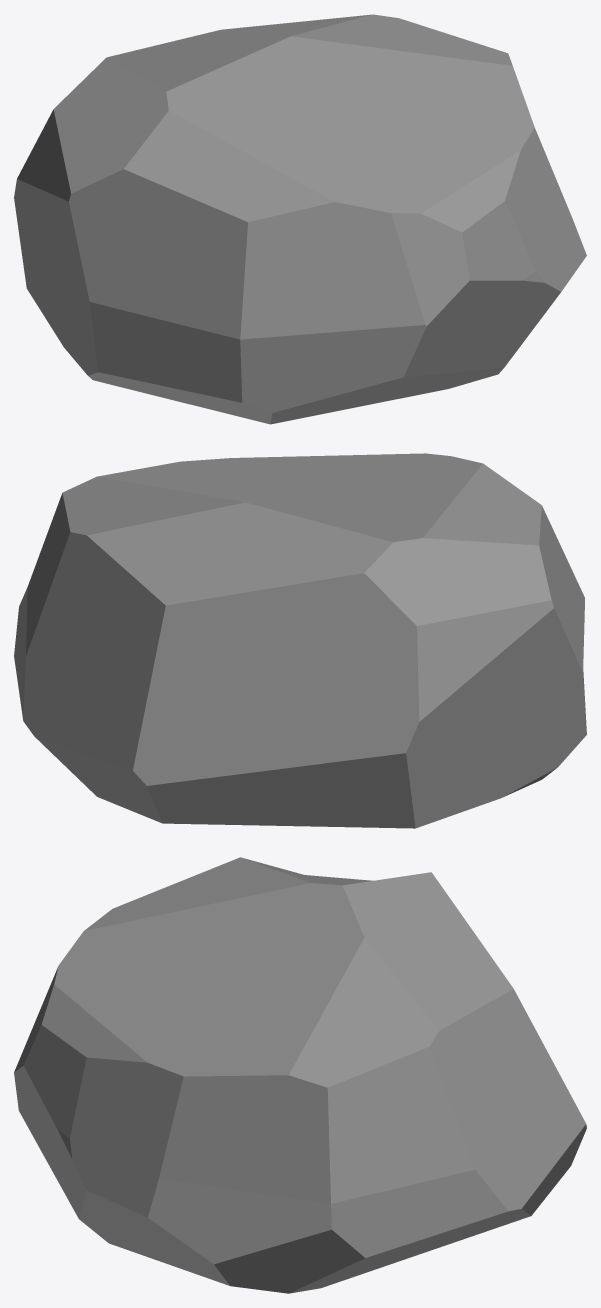
The model's file is Rock2.fbx.
3 renders of one model, top to bottom at view 1: azimuth 30°, elevation 25°; view 2: azimuth 150°, elevation 25°; view 3: azimuth 270°, elevation 25°, orthographic.
Visible parts, largest first — view 1: Cube.030; view 2: Cube.030; view 3: Cube.030.
Part boxes in pixels (x1,y1,x2,y2): Cube.030: (14,14,586,424); Cube.030: (14,453,586,828); Cube.030: (14,857,586,1293).
Bounding box in the file's own units: 1.51 × 1.47 × 0.7948.
